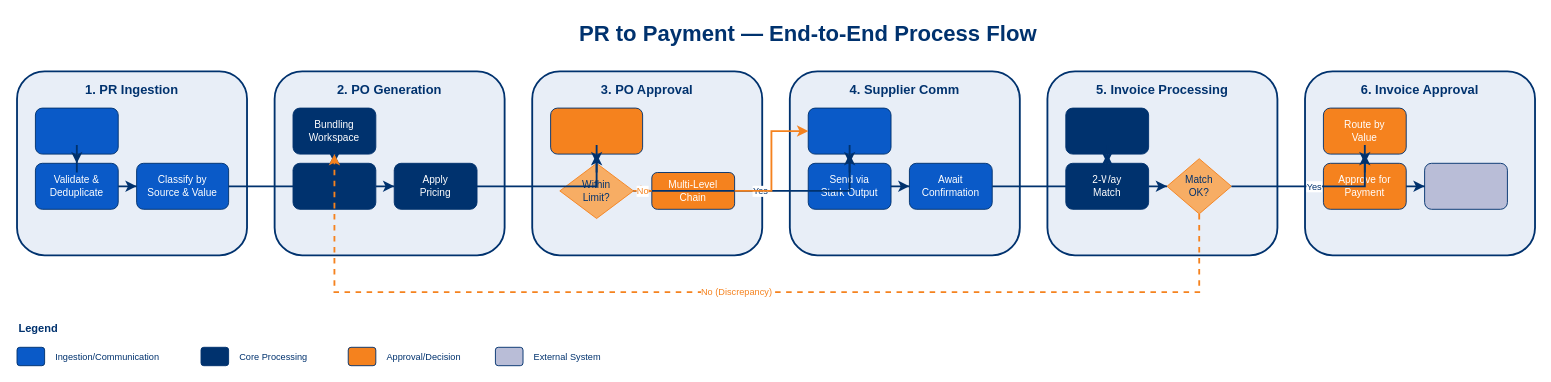
Image size: 1551x382. Some labels were removed from this diagram. Each missing label, with the centre of its shape:
Create PO with Packets: point 334,185
Export to SAP Finance: point 1465,185
Format for Channel: point 849,130
Receive Invoice: point 1107,130
Receive PR via Kafka: point 76,130
Route by Value & Authority: point 596,130
